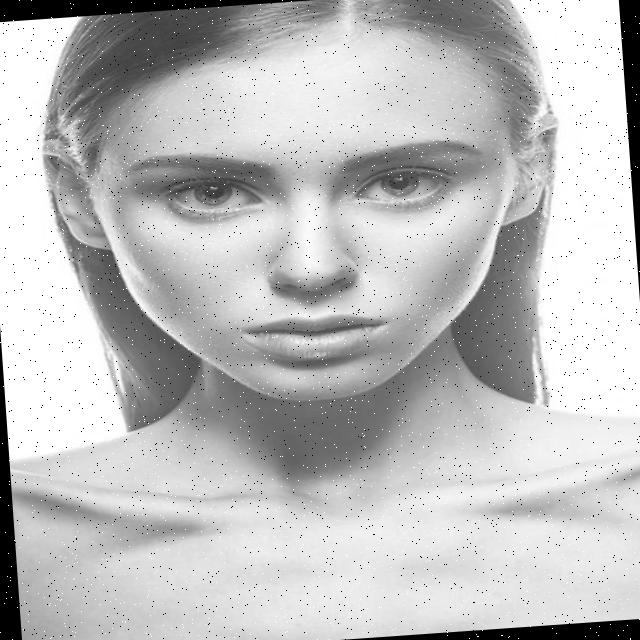Neutral: (86, 26, 531, 413)
